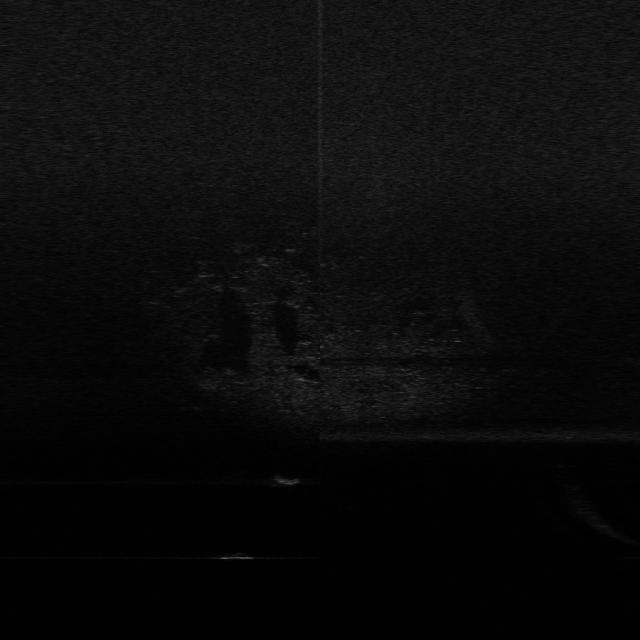cube: (214, 546, 257, 566)
square cage: (274, 468, 306, 488)
